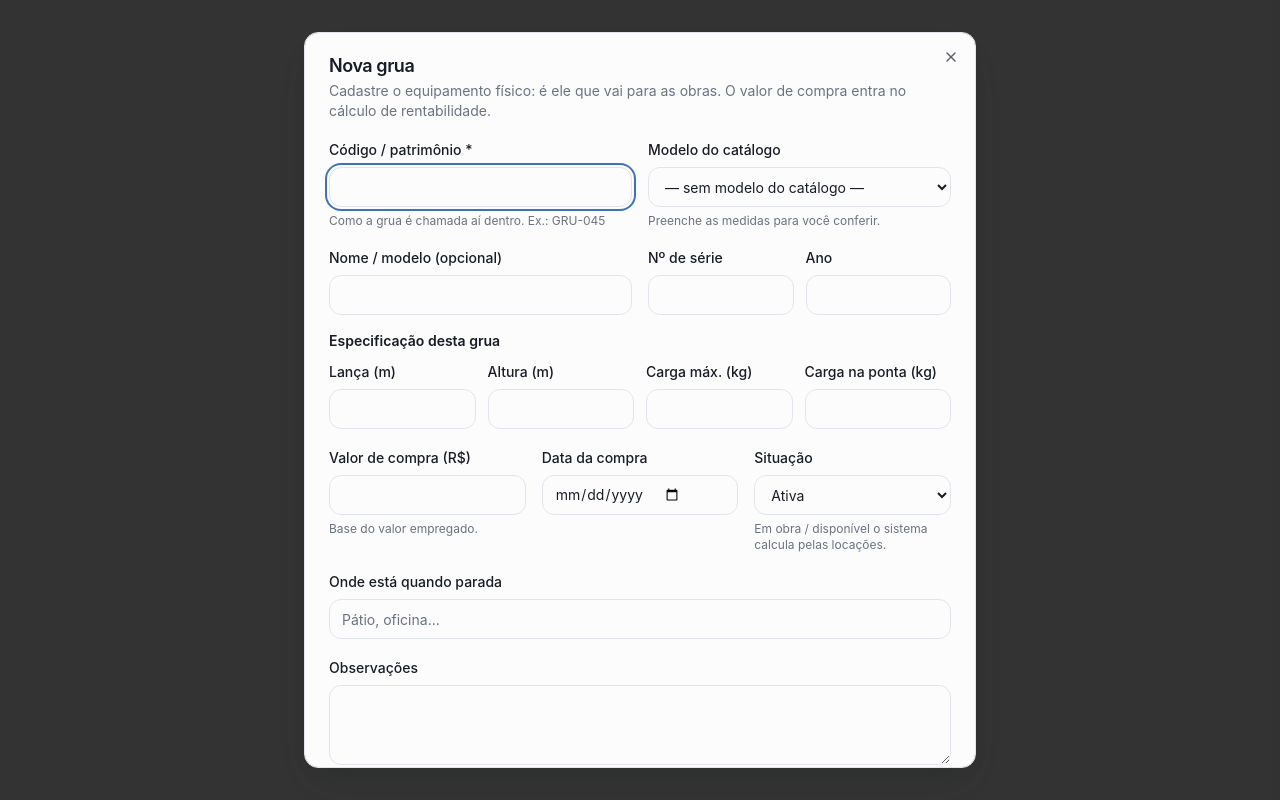
Test: cadastrar grua › escolher o modelo do catálogo preenche as medidas vazias, mas não apaga o que já foi digitado
Type "50" into the field labelled "Lança (m)" at (402, 409), box [329,389,476,429]
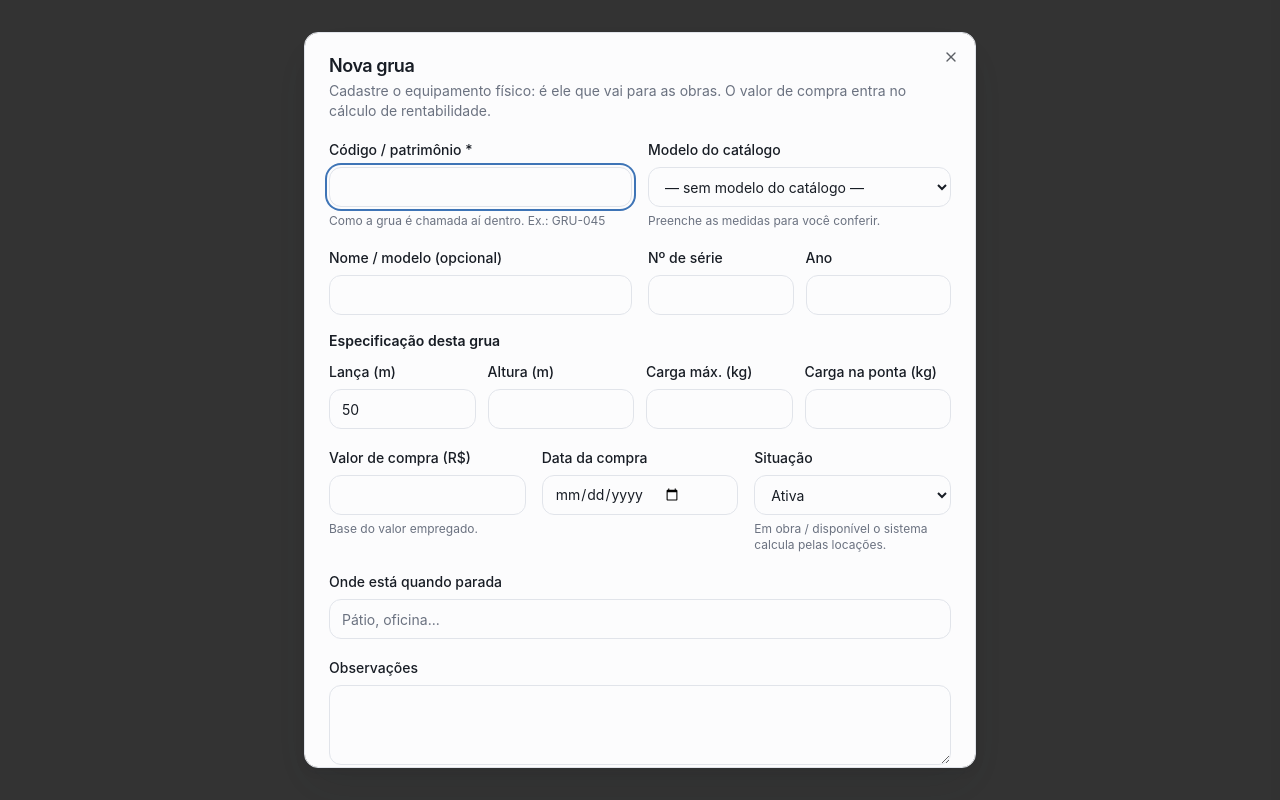
Select "GT45 — Grua torre 45" in the dropdown labelled "Modelo do catálogo" at (800, 187), box [648,167,951,207]
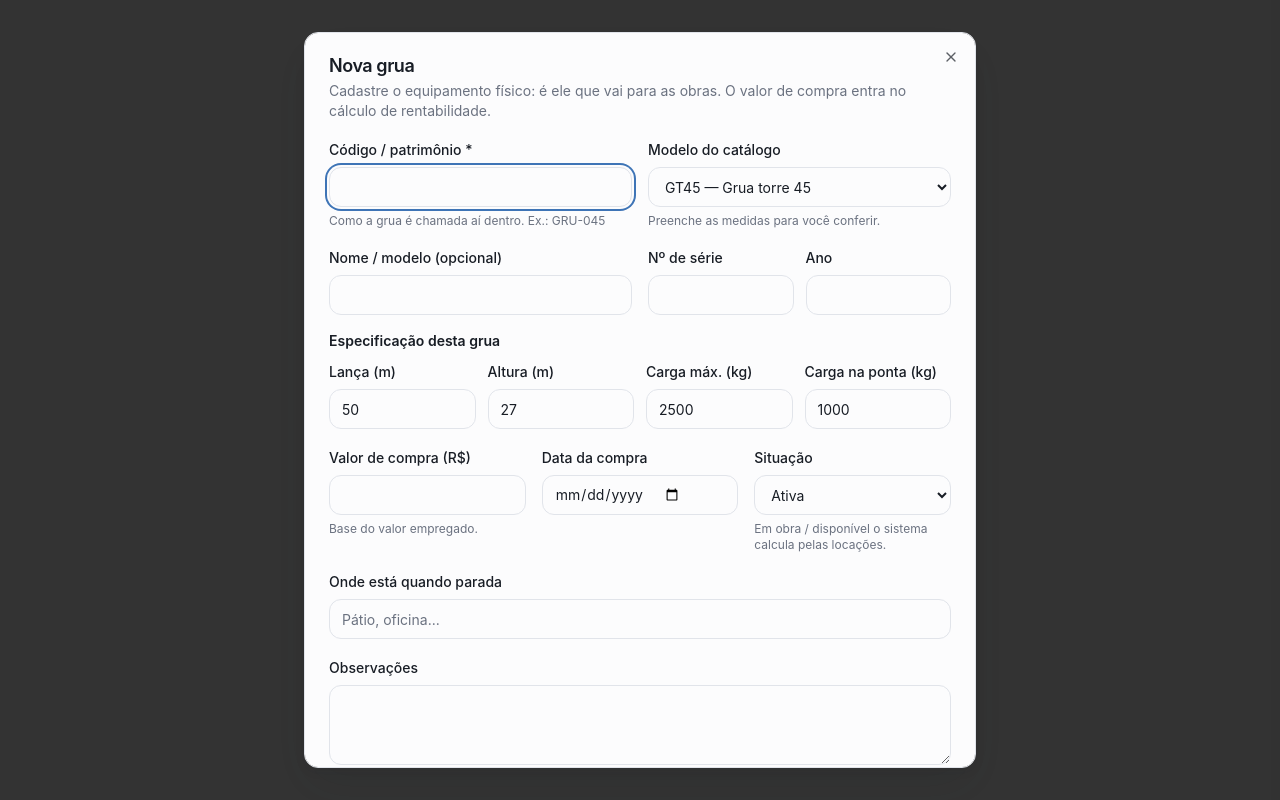
Expected: the field labelled "Altura (m)" holds "27", [488,389,634,429]
Expected: the field labelled "Carga máx. (kg)" holds "2500", [646,389,792,429]
